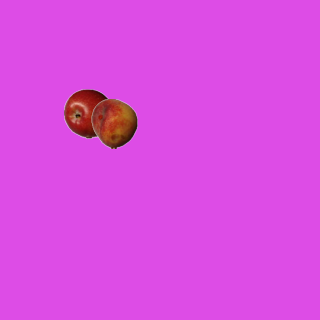Apple Braeburn: (63, 88, 113, 138)
Peach: (89, 98, 139, 148)
